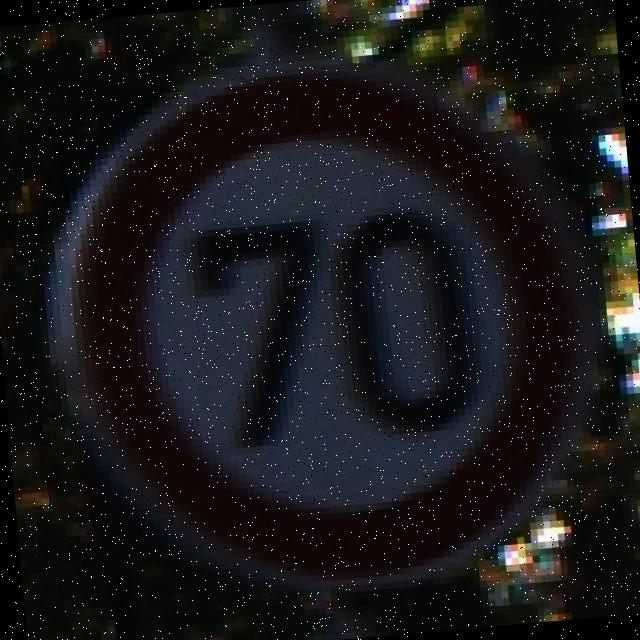Ograniczenie predkosci do 70: (58, 55, 592, 609)
